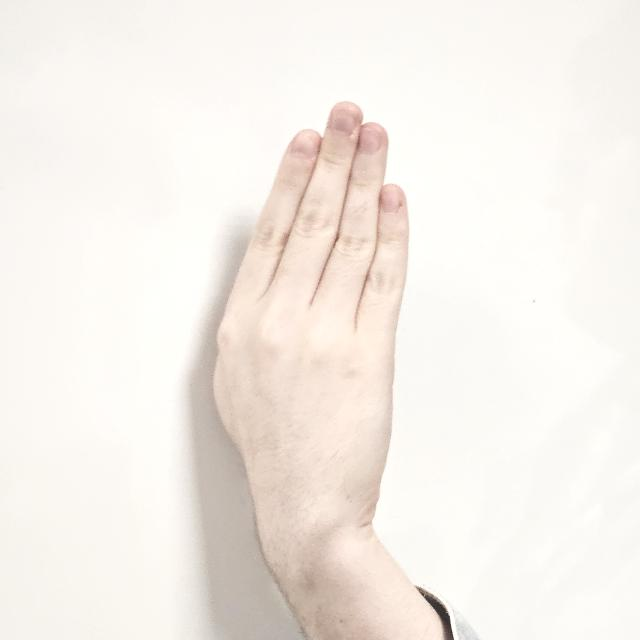Baixo: (180, 102, 430, 516)
